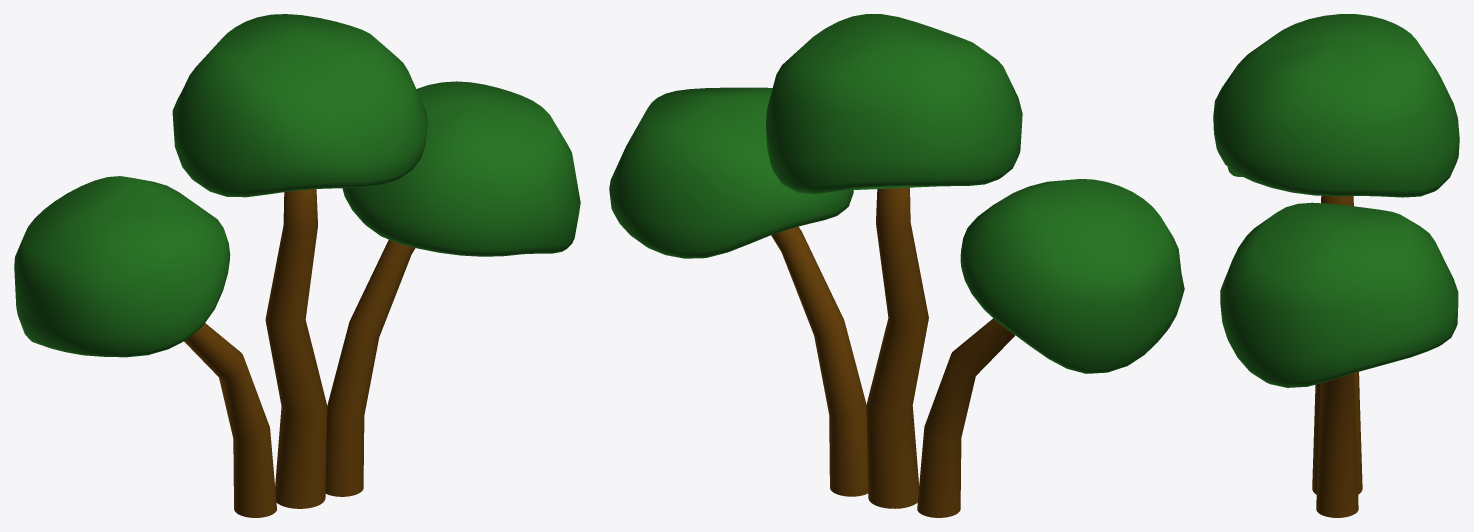
Rendered from Tree3.fbx.
3 views of the same model, side by side, from view 1: azimuth 30°, elevation 25°; view 2: azimuth 150°, elevation 25°; view 3: azimuth 270°, elevation 25° (orthographic). The views are drawn at different scales.
Parts seen in each view (by area): view 1: Cylinder.006, Cylinder.007, Cylinder.008, Tree3, Cylinder.001, Cylinder.005; view 2: Cylinder.006, Cylinder.007, Cylinder.008, Tree3, Cylinder.001, Cylinder.005; view 3: Cylinder.006, Cylinder.008, Cylinder.001, Tree3.
Part boxes in pixels (x1=…): Cylinder.006: x1=172, y1=14, x2=428, y2=197; Cylinder.007: x1=14, y1=176, x2=230, y2=357; Cylinder.008: x1=342, y1=81, x2=580, y2=256; Tree3: x1=265, y1=189, x2=327, y2=508; Cylinder.001: x1=325, y1=240, x2=415, y2=496; Cylinder.005: x1=184, y1=323, x2=276, y2=517; Cylinder.006: x1=766, y1=14, x2=1022, y2=194; Cylinder.007: x1=960, y1=179, x2=1184, y2=373; Cylinder.008: x1=609, y1=87, x2=853, y2=258; Tree3: x1=866, y1=187, x2=928, y2=508; Cylinder.001: x1=771, y1=226, x2=868, y2=496; Cylinder.005: x1=917, y1=318, x2=1015, y2=517; Cylinder.006: x1=1213, y1=14, x2=1459, y2=197; Cylinder.008: x1=1220, y1=202, x2=1458, y2=387; Cylinder.001: x1=1316, y1=373, x2=1358, y2=517; Tree3: x1=1312, y1=195, x2=1362, y2=494.
Bounding box in the file's own units: 1137 × 943 × 466.
